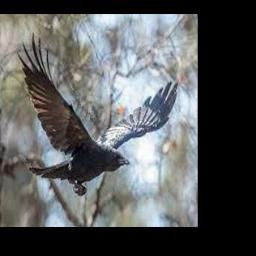Crow: (18, 32, 179, 196)
